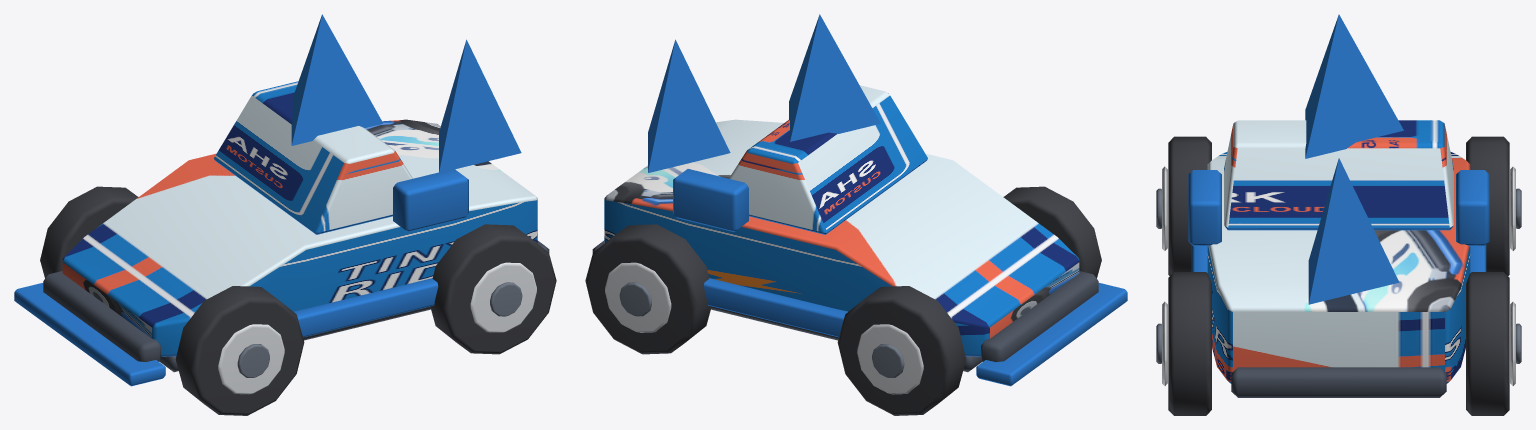
3 views of the same model, side by side, from view 1: azimuth 30°, elevation 25°; view 2: azimuth 150°, elevation 25°; view 3: azimuth 270°, elevation 25° (orthographic). The views are drawn at different scales.
Parts seen in each view (by area): view 1: CR-01_connected_shell, CR-01_cabin, Tire, Tire.002, dorsal fin, shark tail upper fin, custom chin, custom side guard, custom side fin, Tire.001, front bumper, Rim (+4 smaller); view 2: CR-01_connected_shell, CR-01_cabin, Tire.001, Tire.003, dorsal fin, shark tail upper fin, custom chin, custom side guard.001, custom side fin.001, Tire, front bumper, Rim.001 (+4 smaller); view 3: CR-01_connected_shell, CR-01_cabin, dorsal fin, shark tail upper fin, rear bumper, Tire.002, Tire.003, Tire, Tire.001, custom side fin, custom side fin.001, Rim (+5 smaller).
Part boxes in pixels (box(x1,y1,x2,y2)): CR-01_connected_shell: box(62, 119, 537, 356); CR-01_cabin: box(214, 81, 412, 234); Tire: box(175, 286, 304, 415); Tire.002: box(430, 224, 556, 354); dorsal fin: box(291, 14, 383, 145); shark tail upper fin: box(439, 39, 521, 172); custom chin: box(14, 283, 165, 386); custom side guard: box(294, 278, 438, 337); custom side fin: box(393, 169, 468, 231); Tire.001: box(40, 186, 138, 278); front bumper: box(43, 271, 161, 361); Rim: box(218, 324, 284, 394); CR-01_connected_shell: box(604, 119, 1079, 356); CR-01_cabin: box(729, 85, 927, 234); Tire.001: box(837, 286, 966, 415); Tire.003: box(585, 224, 711, 354); dorsal fin: box(789, 14, 880, 141); shark tail upper fin: box(648, 39, 730, 172); custom chin: box(976, 283, 1127, 386); custom side guard.001: box(703, 278, 847, 337); custom side fin.001: box(673, 169, 748, 231); Tire: box(1003, 186, 1101, 278); front bumper: box(980, 271, 1098, 361); Rim.001: box(857, 324, 923, 394); CR-01_connected_shell: box(1207, 152, 1470, 383); CR-01_cabin: box(1224, 120, 1453, 230); dorsal fin: box(1305, 14, 1403, 158); shark tail upper fin: box(1308, 158, 1399, 304); rear bumper: box(1231, 367, 1446, 397); Tire.002: box(1168, 272, 1211, 415); Tire.003: box(1466, 272, 1509, 415); Tire: box(1168, 136, 1211, 275); Tire.001: box(1466, 136, 1509, 275); custom side fin: box(1188, 170, 1221, 246); custom side fin.001: box(1456, 170, 1489, 246); Rim: box(1162, 166, 1167, 250).
Bounding box in the file's own units: 329 × 224 × 217.
